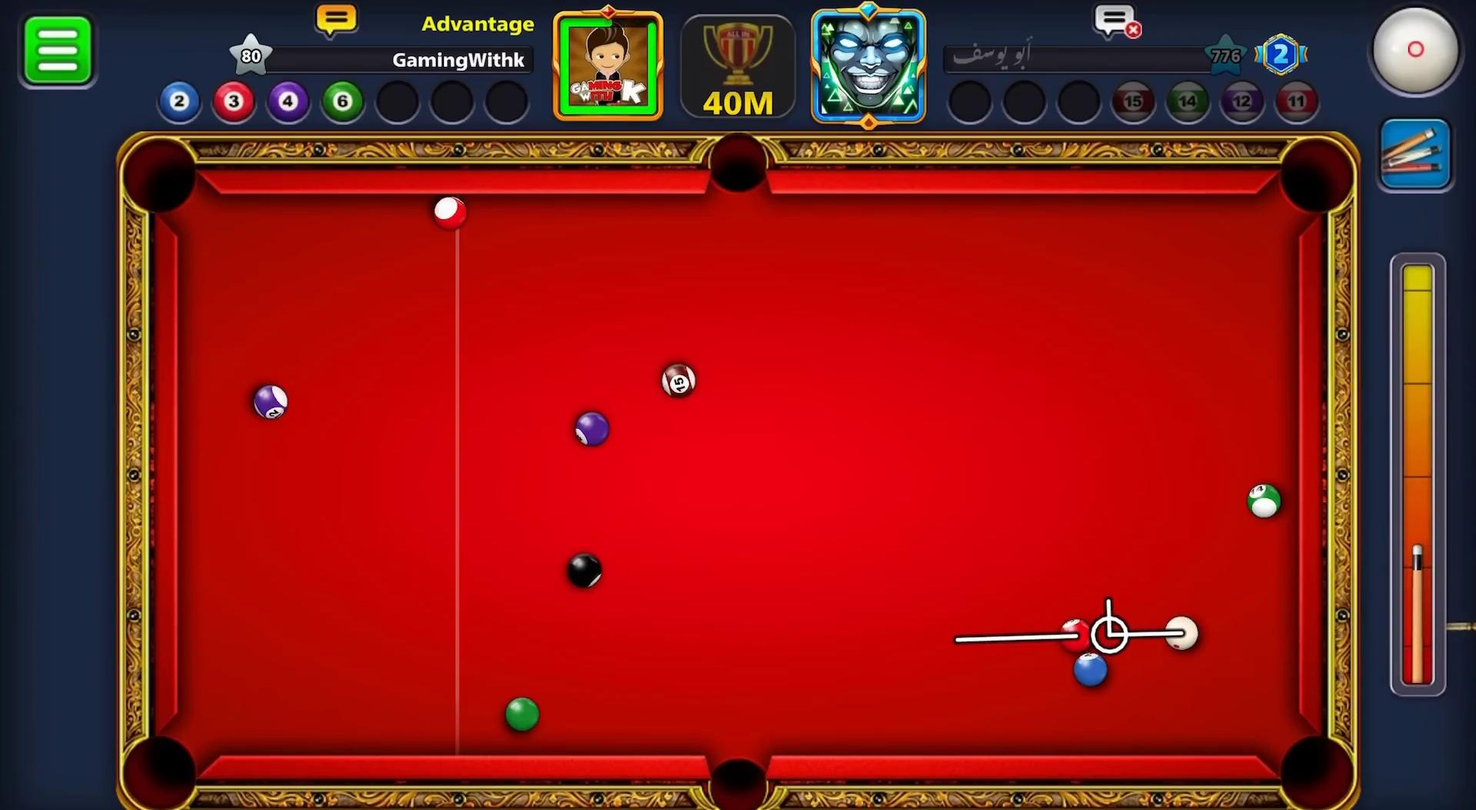Ball: (244, 372, 299, 428), (422, 185, 474, 241), (654, 358, 701, 403), (560, 550, 608, 592), (568, 406, 614, 449), (1071, 647, 1111, 691), (1246, 479, 1284, 524), (503, 694, 543, 735)
Force: (1392, 253, 1449, 704)
Guideline: (953, 595, 1184, 650)
Hole: (101, 123, 219, 238), (1266, 122, 1364, 228), (685, 124, 791, 211), (1275, 732, 1358, 809), (122, 733, 199, 808), (703, 754, 771, 809)
Play_Area: (177, 192, 1296, 755)
Spin: (1363, 1, 1475, 105)
White: (1164, 614, 1201, 655)
